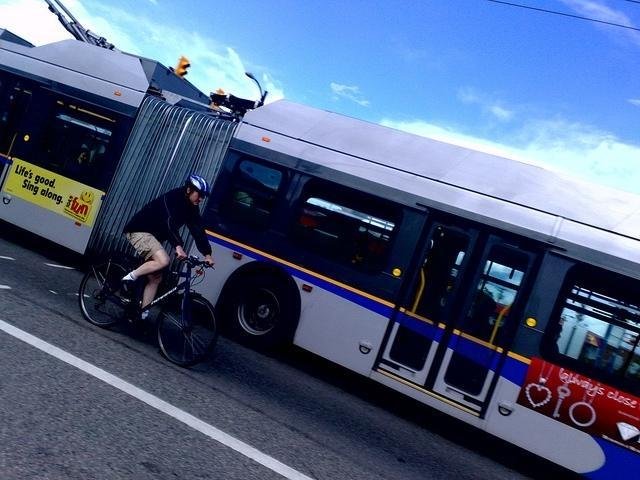bicycle: (80, 252, 222, 367)
bus: (2, 27, 640, 398)
